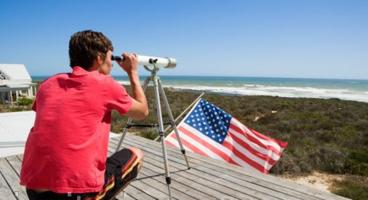person: (23, 30, 144, 200)
